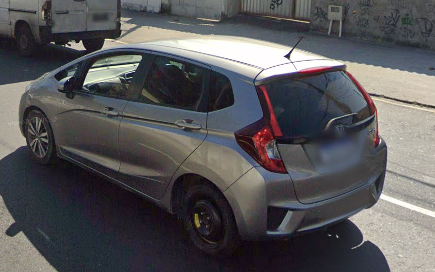car: (17, 39, 387, 257)
